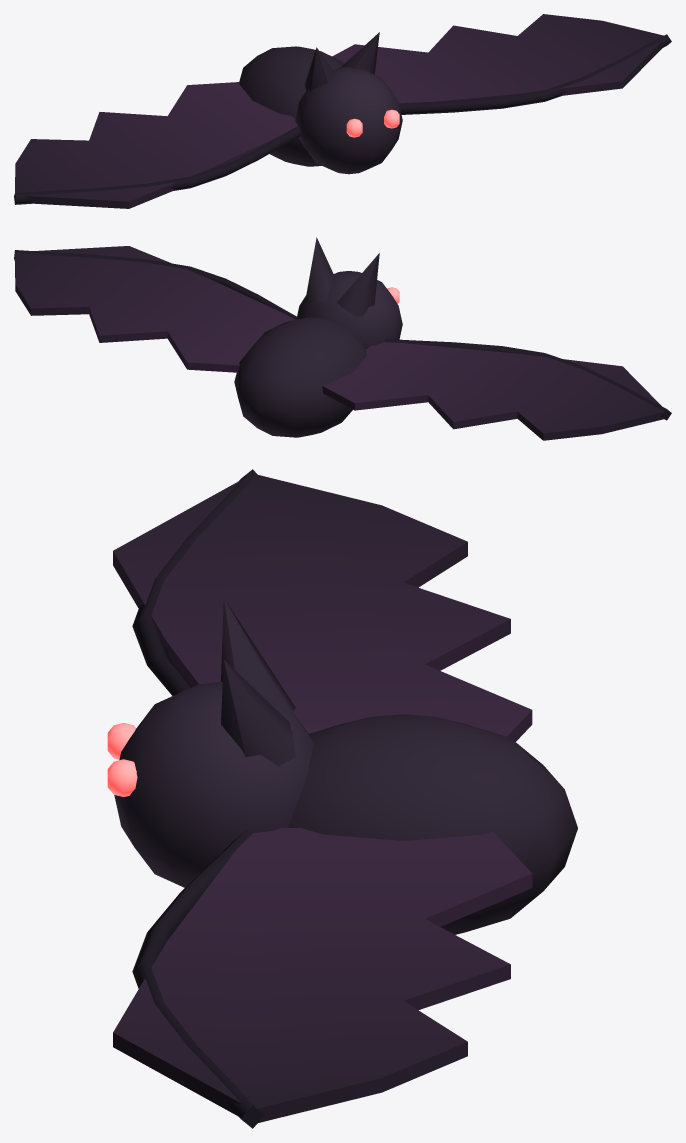
The model's file is 5a119dc7-c9d2-411d-a799-a45fd96fbff6.glb.
The picture shows the model from 3 angles, top to bottom: view 1: azimuth 30°, elevation 25°; view 2: azimuth 150°, elevation 25°; view 3: azimuth 270°, elevation 25°; orthographic projection. The views are drawn at different scales.
Parts seen in each view (by area): view 1: WingL, WingR, Body; view 2: WingL, WingR, Body; view 3: WingR, WingL, Body.
Part boxes in pixels (box(x1,y1,x2,y2)): WingL: box(14, 82, 301, 208); WingR: box(332, 14, 671, 114); Body: box(239, 32, 402, 174); WingL: box(322, 339, 671, 440); WingR: box(14, 246, 296, 372); Body: box(234, 237, 402, 437); WingR: box(113, 828, 532, 1128); WingL: box(113, 469, 532, 741); Body: box(107, 598, 577, 934).
Bounding box in the file's own units: 1.41 × 0.3088 × 0.4373.
